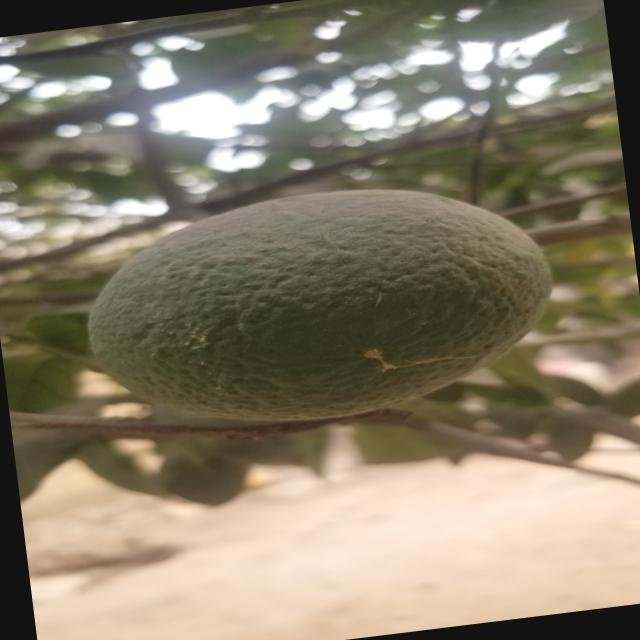agrume: (68, 164, 559, 440)
